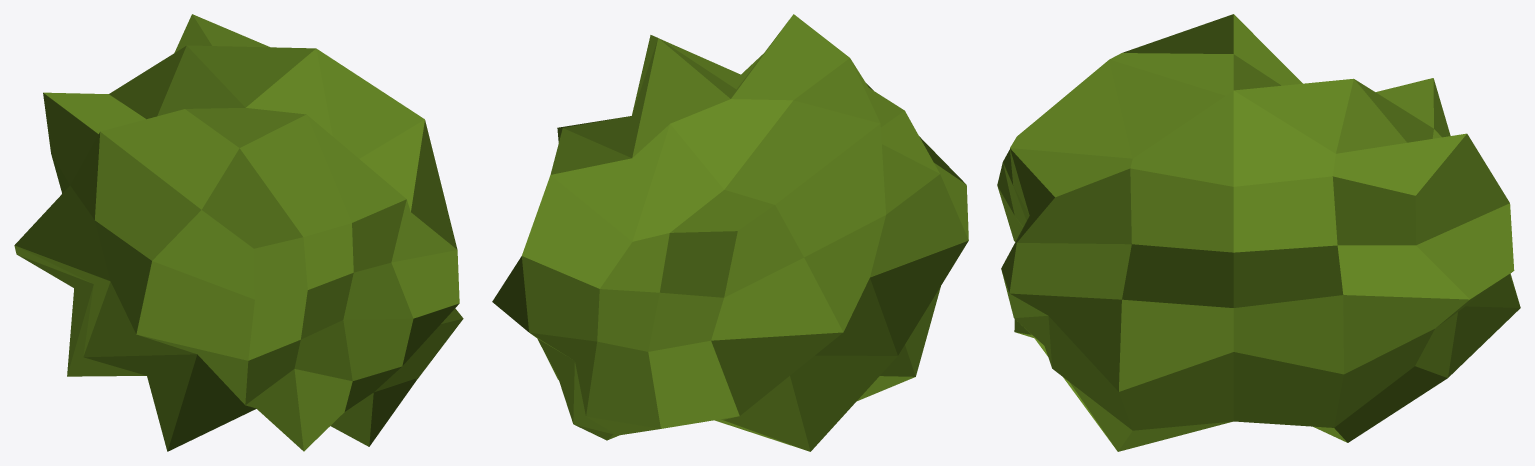
The model's file is bush_2_engine.fbx.
3 views of the same model, side by side, from view 1: azimuth 30°, elevation 25°; view 2: azimuth 150°, elevation 25°; view 3: azimuth 270°, elevation 25° (orthographic). The views are drawn at different scales.
Parts seen in each view (by area): view 1: Cube; view 2: Cube; view 3: Cube.
Part boxes in pixels (x1,y1,x2,y2): Cube: (14,14,463,451); Cube: (492,14,968,451); Cube: (997,14,1520,451).
Size of the model in its own units: 33474 by 33625 by 43903.
